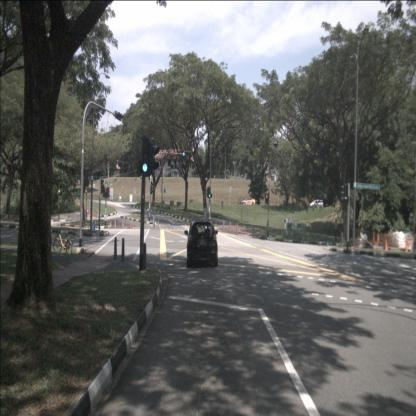cone: (384, 238, 388, 251), (405, 239, 408, 254), (376, 233, 380, 244), (372, 232, 375, 244), (355, 237, 357, 249)
